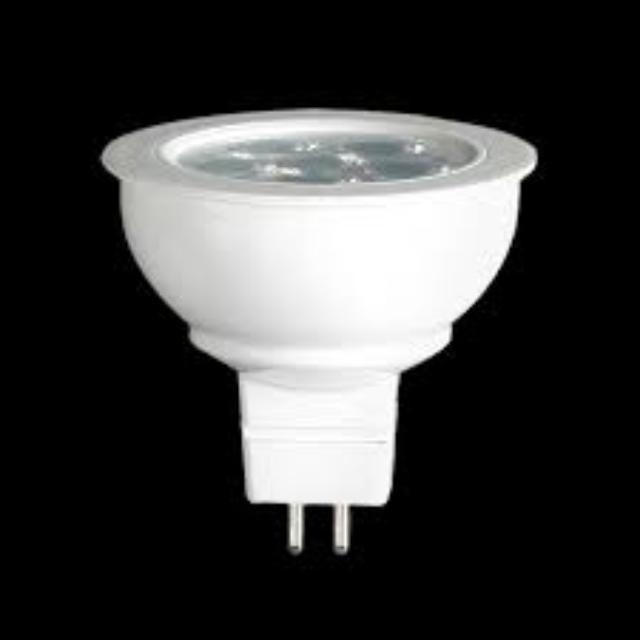light_bulb: (100, 102, 544, 554)
